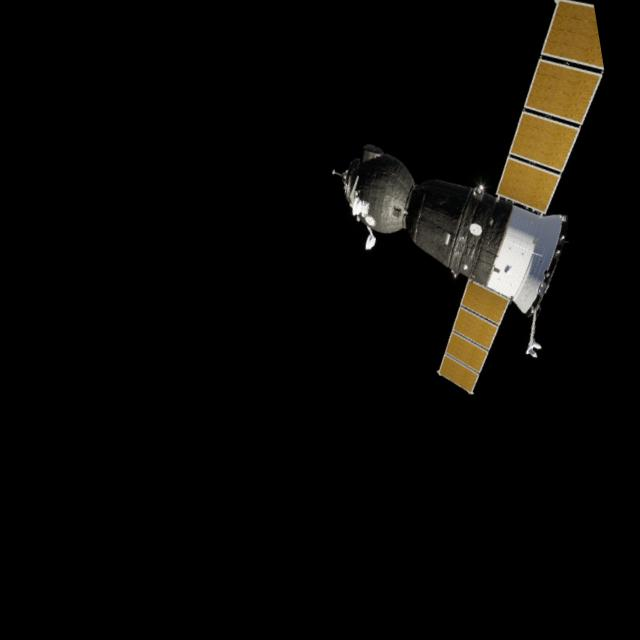Satellites revolving around earth: (309, 0, 640, 413)
